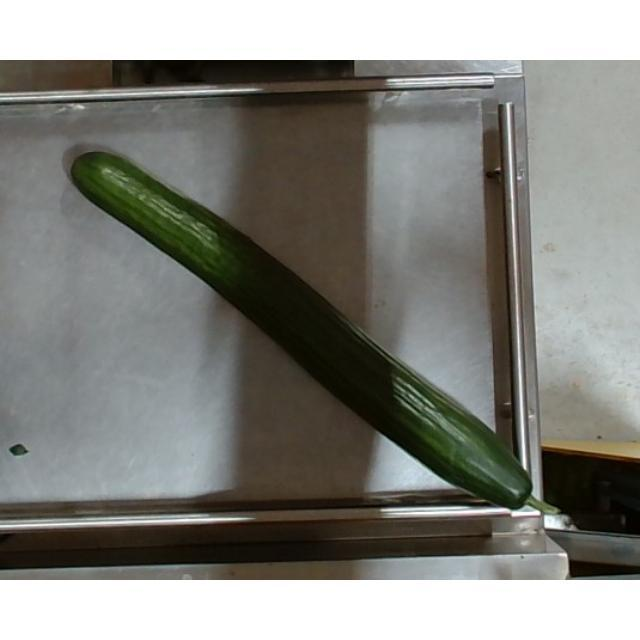cucumber: (70, 152, 556, 516)
